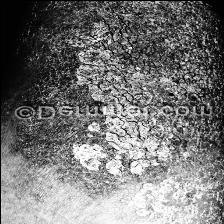Non-Cancerous Skin Condition: (82, 11, 158, 104), (72, 116, 181, 170)
